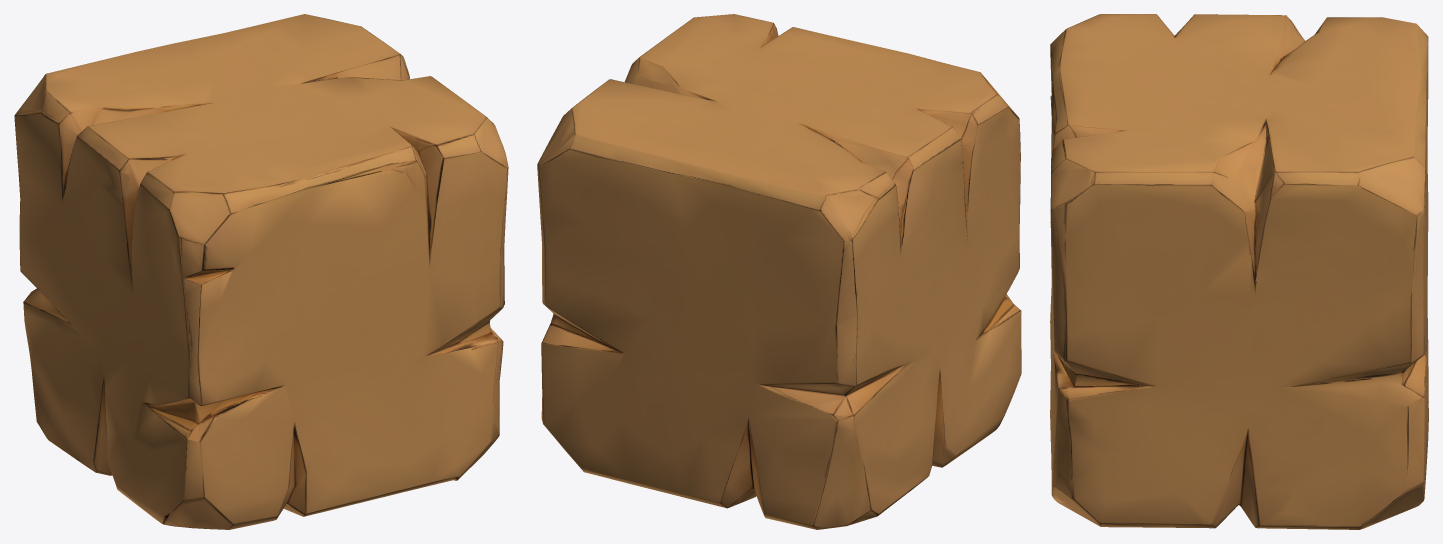
File: boulder.glb
The picture shows the model from 3 angles, left to right: view 1: azimuth 30°, elevation 25°; view 2: azimuth 150°, elevation 25°; view 3: azimuth 270°, elevation 25°; orthographic projection. The views are drawn at different scales.
Parts seen in each view (by area): view 1: boulder; view 2: boulder; view 3: boulder.
Boxes of the visible parts, x1,y1,x2,y2 form: boulder: (14, 14, 508, 529); boulder: (537, 14, 1021, 529); boulder: (1050, 14, 1428, 529).
Bounding box in the file's own units: 2.2 × 2.2 × 2.1.
Materials: 1 (1 with a texture image).
